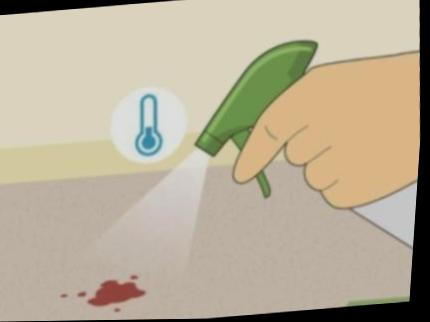Fire: (90, 279, 150, 306)
